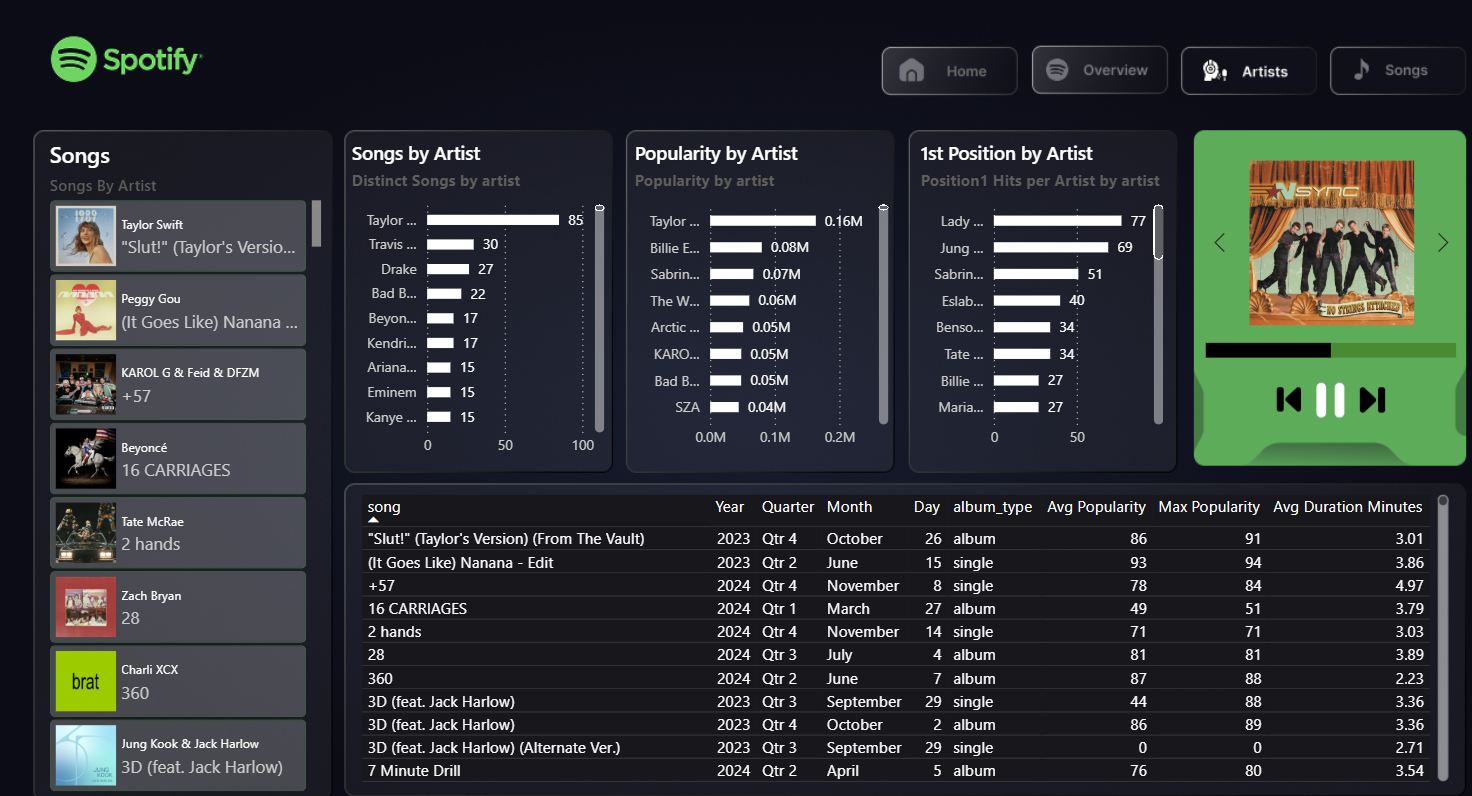

This screenshot's page, from the dashboard's own definition file:
{"tool":"powerbi","page":{"name":"Artist","canvas":[1280,720],"ordinal":2},"visuals":[{"type":"actionButton","box":[768.5,72.7,118.6,41.5],"z":0},{"type":"actionButton","box":[899.6,66.4,118.2,41.4],"z":1000},{"type":"actionButton","box":[1029,72.7,118.6,41.5],"z":2000},{"type":"actionButton","box":[1156.2,72.7,118.6,41.5],"z":3000},{"type":"advancedSlicerVisual","title":"Songs","fields":{"Values":["Top-50-world.song"]},"box":[1046.3,156.6,223.3,162.7],"z":4000},{"type":"image","box":[1180.5,333.2,25.1,80.5],"z":5000},{"type":"image","box":[1109.5,333.2,24.2,80.5],"z":6000},{"type":"image","box":[1142.4,328.9,30.3,90],"z":7000},{"type":"hundredPercentStackedBarChart","fields":{"Y":["_Measure.Avg Popularity","Avg(Top-50-world.popularity)"]},"box":[1044.6,294.3,225.9,65.8],"z":8000},{"type":"shape","box":[1082.5,157,151.8,156.1],"z":9000},{"type":"clusteredBarChart","title":"Songs by Artist","fields":{"Category":["Top-50-world.artist"],"Y":["_Measure.Distinct Songs"]},"box":[307.9,149.2,227.7,281.2],"z":10000},{"type":"clusteredBarChart","title":"1st Position by Artist","fields":{"Y":["_Measure.Position1 Hits per Artist"],"Category":["Top-50-world.artist"]},"box":[798.7,149.2,219.1,274.3],"z":11000},{"type":"clusteredBarChart","title":"Popularity by Artist","fields":{"Y":["Sum(Top-50-world.popularity)"],"Category":["Top-50-world.artist"]},"box":[552,149.2,228.6,274.3],"z":12000},{"type":"advancedSlicerVisual","title":"Songs","fields":{"Values":["Top-50-world.song"]},"box":[47.6,148.8,244.9,571.2],"z":13000},{"type":"tableEx","fields":{"Values":["Top-50-world.song","Top-50-world.release_date.Variation.Date Hierarchy.Year","Top-50-world.release_date.Variation.Date Hierarchy.Quarter","Top-50-world.release_date.Variation.Date Hierarchy.Month","Top-50-world.release_date.Variation.Date Hierarchy.Day","Top-50-world.album_type","_Measure.Avg Popularity","_Measure.Max Popularity","_Measure.Avg Duration Minutes"]},"box":[315.7,450.2,947.9,257],"z":14000}]}

Visuals, with their boxes on the page's 1280x720 design canvas (x1, y1, x2, y2). These are canvas units, not pixel positions in the 1472x796 screenshot, which may show the page scaled, cropped or inside an application window:
actionButton: x1=768 y1=73 x2=887 y2=114
actionButton: x1=900 y1=66 x2=1018 y2=108
actionButton: x1=1029 y1=73 x2=1148 y2=114
actionButton: x1=1156 y1=73 x2=1275 y2=114
"Songs" advancedSlicerVisual: x1=1046 y1=157 x2=1270 y2=319
image: x1=1180 y1=333 x2=1206 y2=414
image: x1=1110 y1=333 x2=1134 y2=414
image: x1=1142 y1=329 x2=1173 y2=419
hundredPercentStackedBarChart - _Measure.Avg Popularity x Avg(Top-50-world.popularity): x1=1045 y1=294 x2=1270 y2=360
shape: x1=1082 y1=157 x2=1234 y2=313
"Songs by Artist" clusteredBarChart: x1=308 y1=149 x2=536 y2=430
"1st Position by Artist" clusteredBarChart: x1=799 y1=149 x2=1018 y2=424
"Popularity by Artist" clusteredBarChart: x1=552 y1=149 x2=781 y2=424
"Songs" advancedSlicerVisual: x1=48 y1=149 x2=292 y2=720
tableEx - Top-50-world.song x Top-50-world.release_date.Variation.Date Hierarchy.Year: x1=316 y1=450 x2=1264 y2=707
